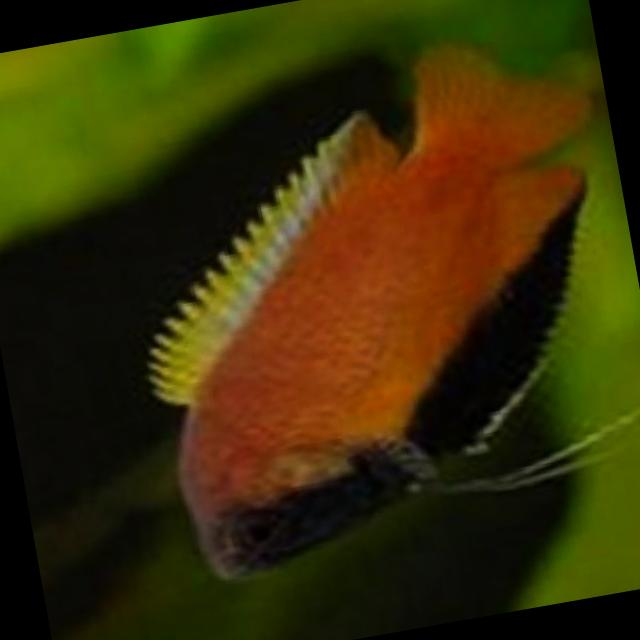Gourami: (89, 18, 640, 591)
